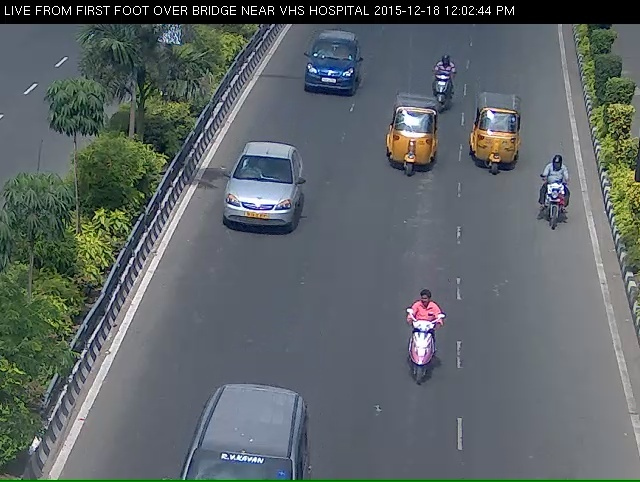Auto: (376, 98, 441, 181), (465, 105, 527, 178)
Car: (216, 154, 302, 245), (301, 39, 357, 99)
Person: (394, 304, 456, 398), (540, 159, 574, 249), (428, 56, 453, 113)
